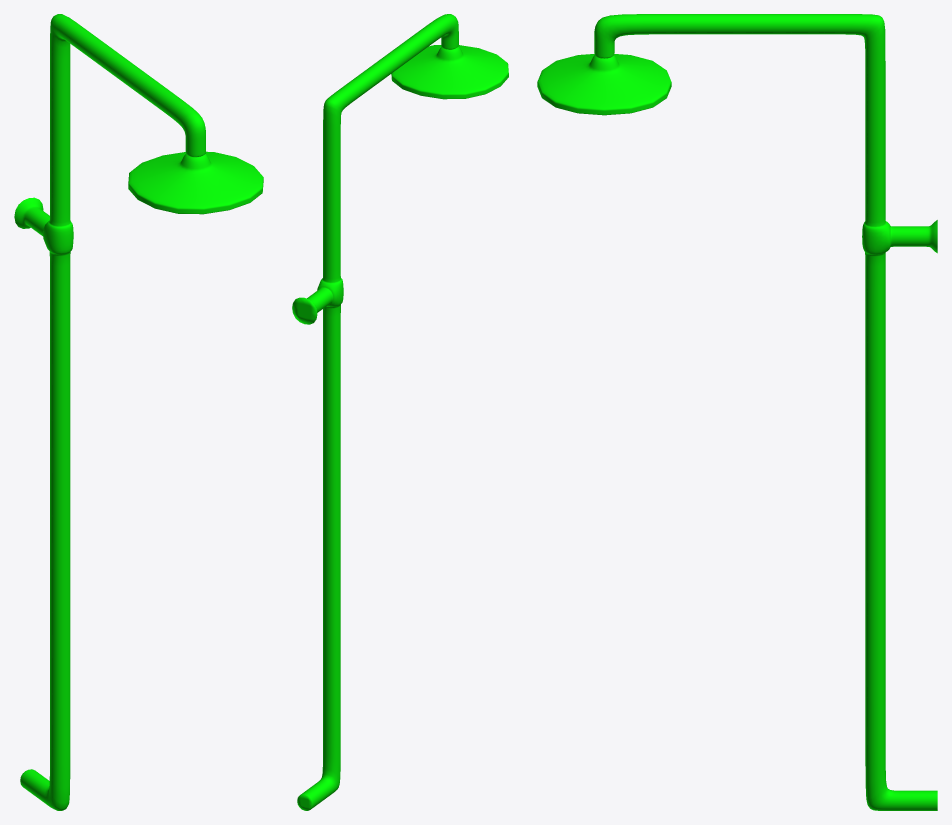
File: Shower.fbx
3 renders of one model, left to right at view 1: azimuth 30°, elevation 25°; view 2: azimuth 150°, elevation 25°; view 3: azimuth 270°, elevation 25°, orthographic. The views are drawn at different scales.
Parts seen in each view (by area): view 1: Cube; view 2: Cube; view 3: Cube.
Boxes of the visible parts, <box> form: Cube: <box>14,14,263,810</box>; Cube: <box>292,14,508,810</box>; Cube: <box>537,14,937,810</box>.
Size of the model in its own units: 18.33 by 120 by 54.67.
